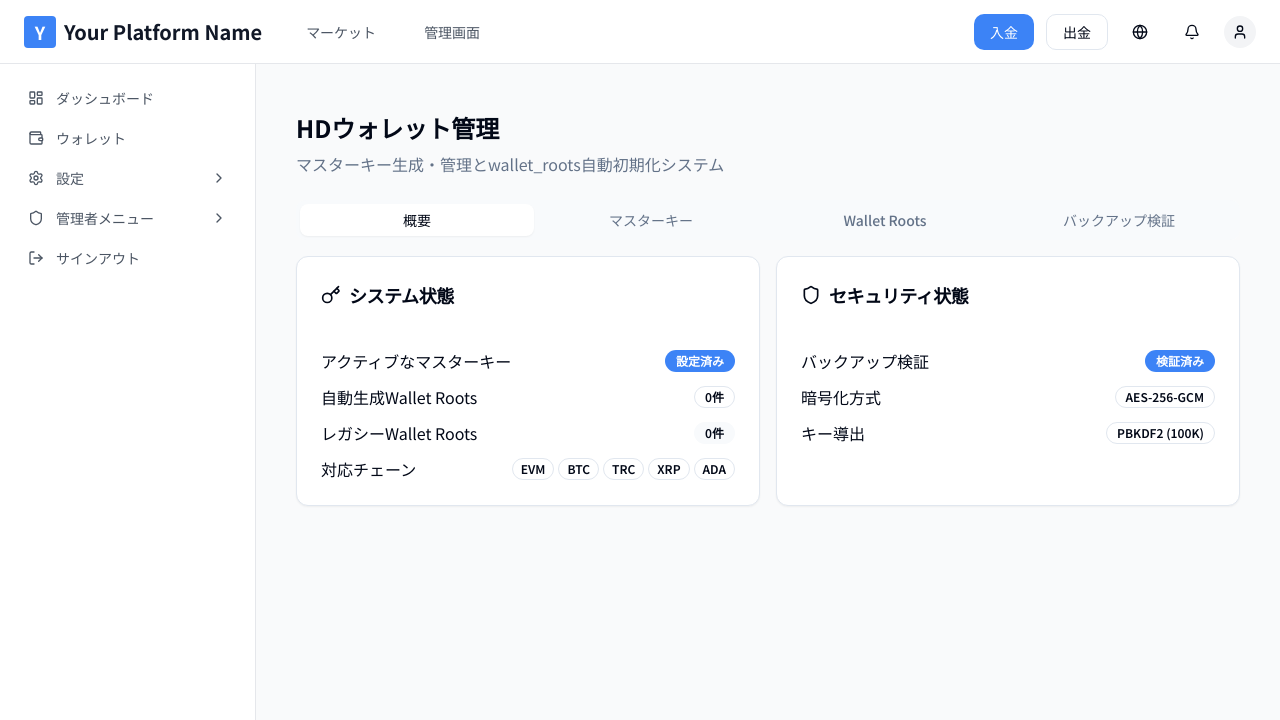
Test case: WalletAdmin - HDウォレット管理 › マスターキー一覧の表示 › マスターキータブに切り替えるとマスターキー一覧が表示される
This screenshot has width=1280, height=720.
# マスターキータブをクリック
Click the tab "マスターキー". click: point(651, 220)
box: [534,204,768,236]
(page scrolled)
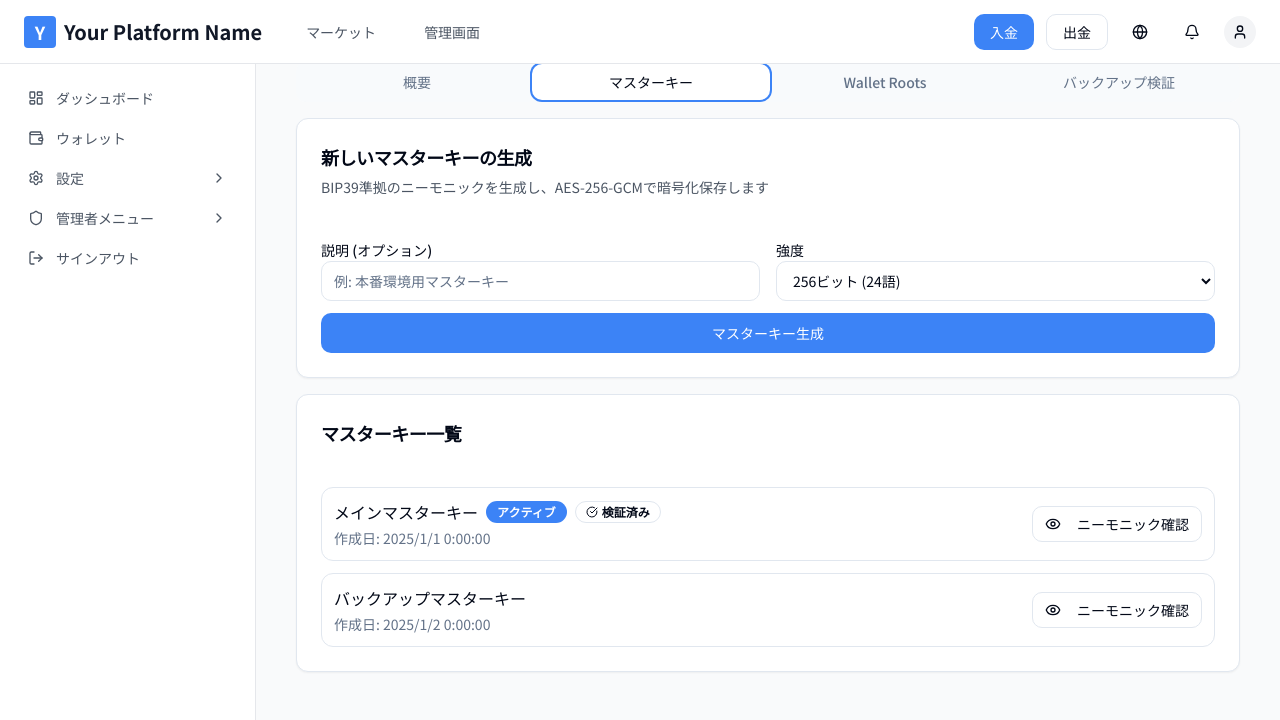
Check: the text "メインマスターキー" is shown, box [334,500,478,524]
Check: the text "バックアップマスターキー" is shown, box [334,586,526,610]
